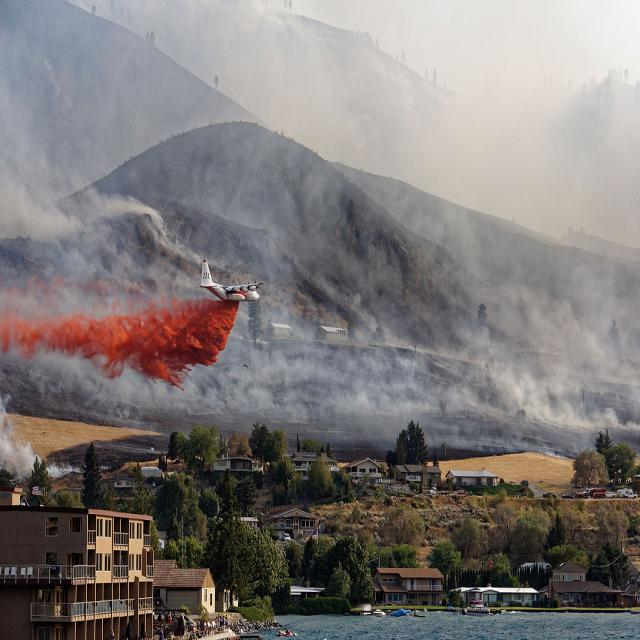MIL_Plane: (194, 274, 264, 286)
